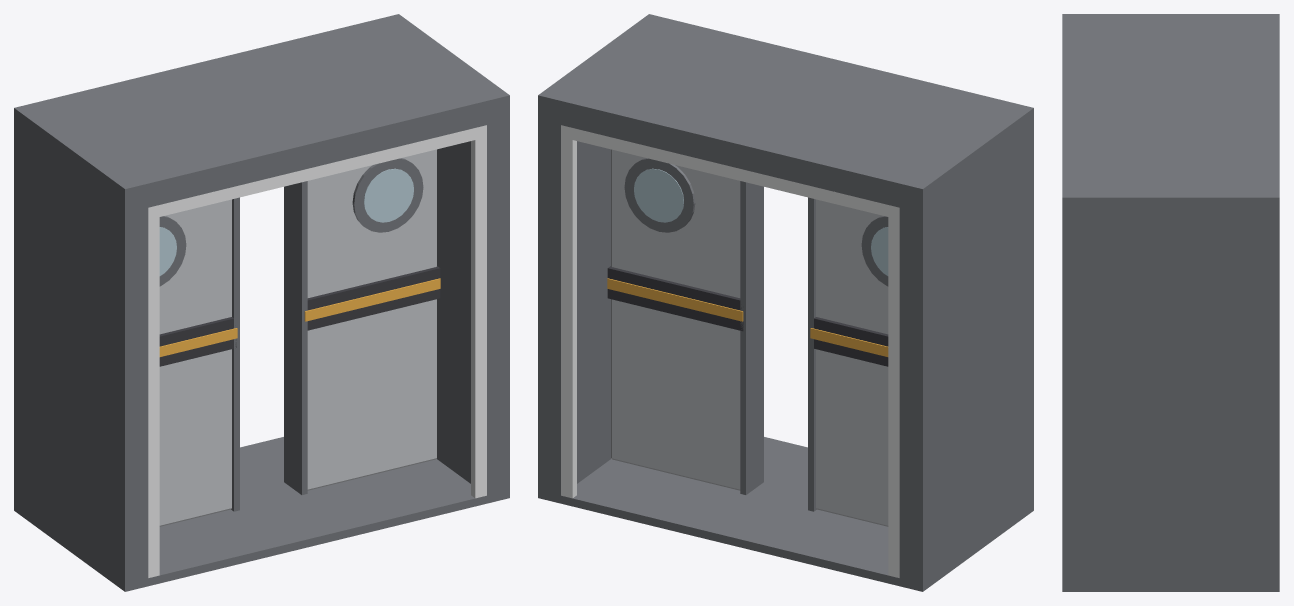
File: door_1.gltf
The picture shows the model from 3 angles, left to right: view 1: azimuth 30°, elevation 25°; view 2: azimuth 150°, elevation 25°; view 3: azimuth 270°, elevation 25°; orthographic projection. The views are drawn at different scales.
Parts seen in each view (by area): view 1: door_1; view 2: door_1; view 3: door_1.
Boxes of the visible parts, box(x1,y1,x2,y2) form: door_1: box(14, 14, 509, 591); door_1: box(538, 14, 1033, 591); door_1: box(1062, 14, 1279, 591).
Size of the model in its own units: 2 by 2 by 1.
